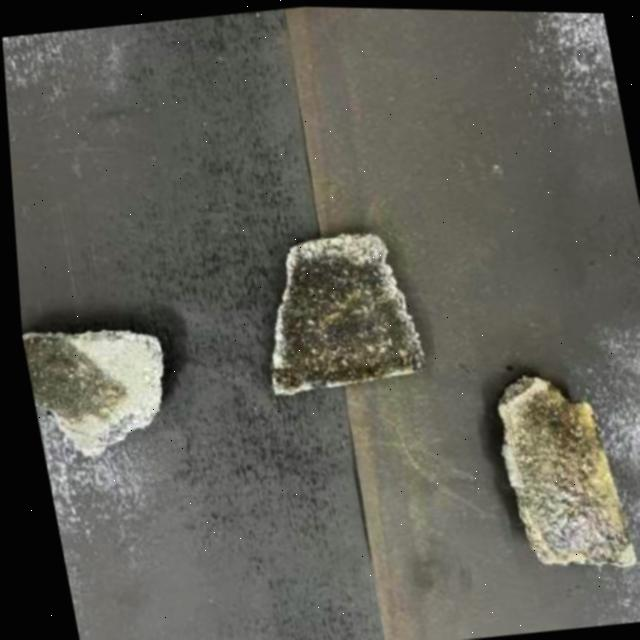Road Debris: (244, 238, 424, 399), (494, 381, 625, 567), (17, 326, 124, 427)
